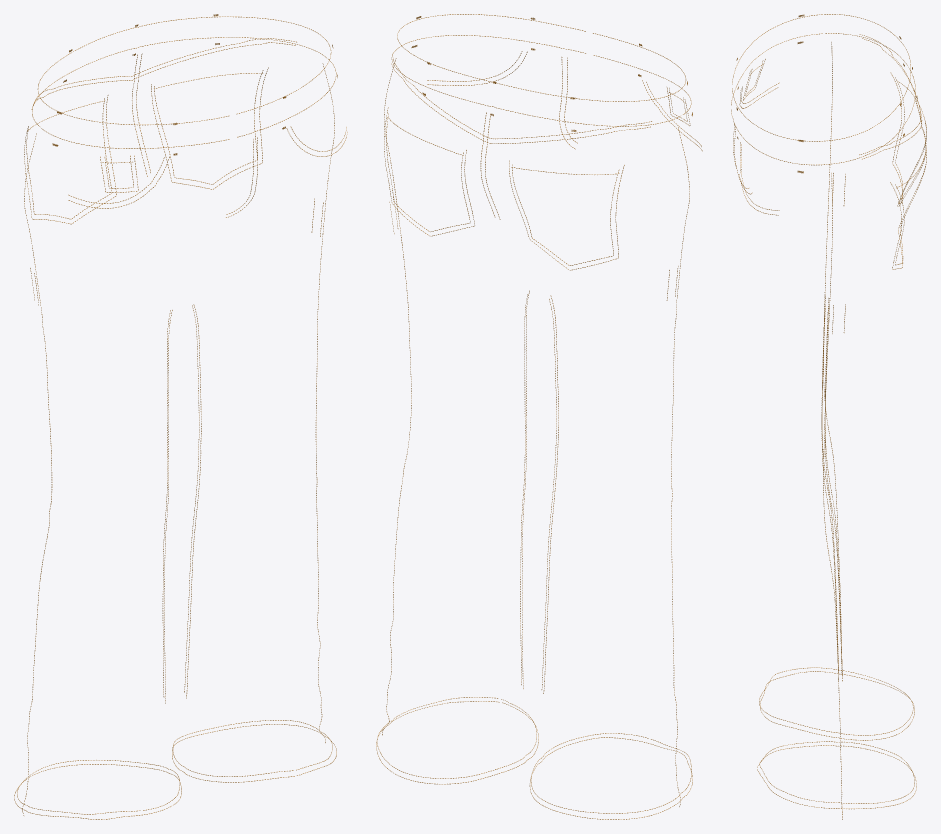
File: 26_vaquero_bootcut_costuras.glb
The picture shows the model from 3 angles, left to right: view 1: azimuth 30°, elevation 25°; view 2: azimuth 150°, elevation 25°; view 3: azimuth 270°, elevation 25°; orthographic projection. The views are drawn at different scales.
Parts seen in each view (by area): view 1: stitch; view 2: stitch; view 3: stitch.
Boxes of the visible parts, <box> form: stitch: <box>14,14,347,819</box>; stitch: <box>376,14,702,819</box>; stitch: <box>731,14,926,819</box>.
Bounding box in the file's own units: 0.427 × 0.9572 × 0.2486.
